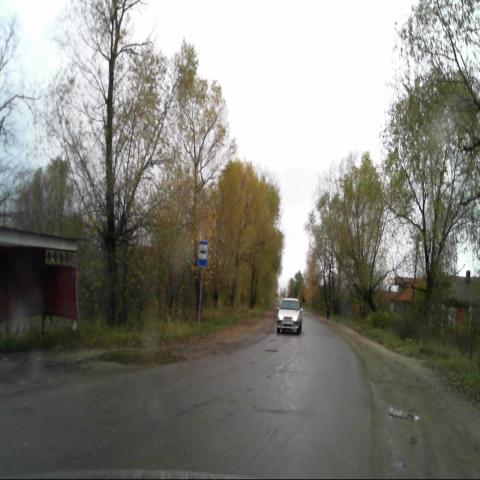5_16: (198, 241, 208, 266)
